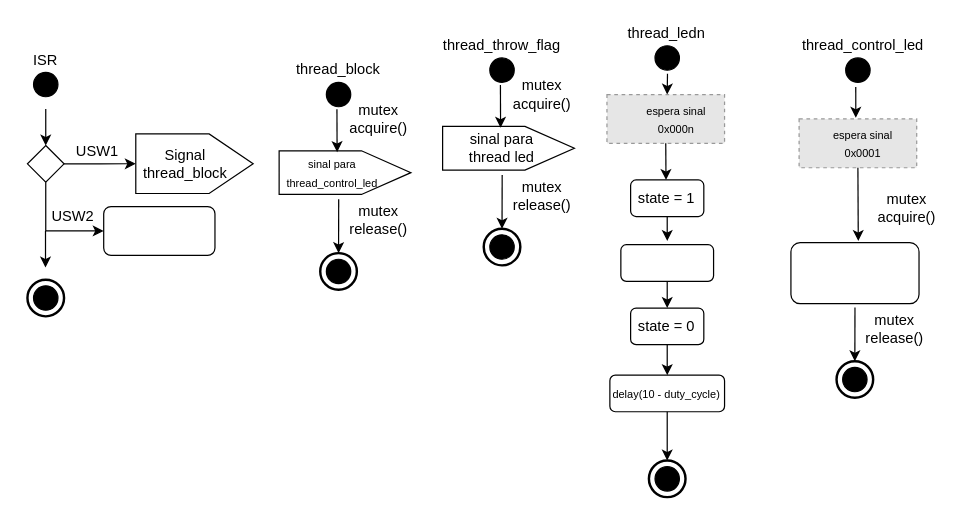
The diagram is 969 pixels wide and 519 high, and some of its shapes have lost their labels. Grey dashed boxes stand in for pictures. The shapes that lost their labels are listed below. From the top down, each one's centre as x and y in pixels, then its label:
(158,230): target_led++
(667,262): delay(duty_cycle)
(854,272): change duty cycle of target_led
